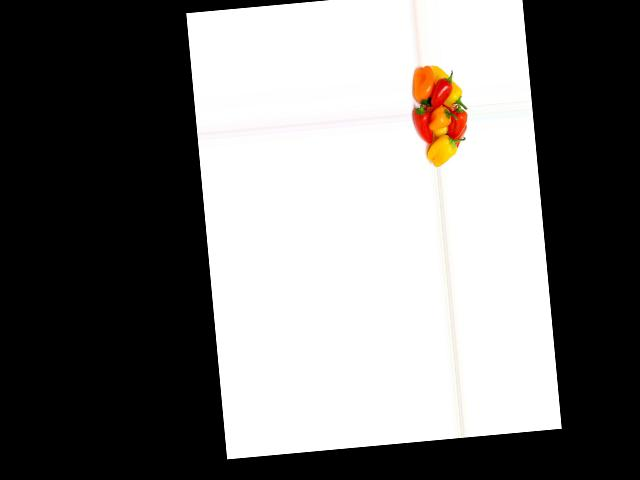bell_pepper: (431, 63, 465, 108)
